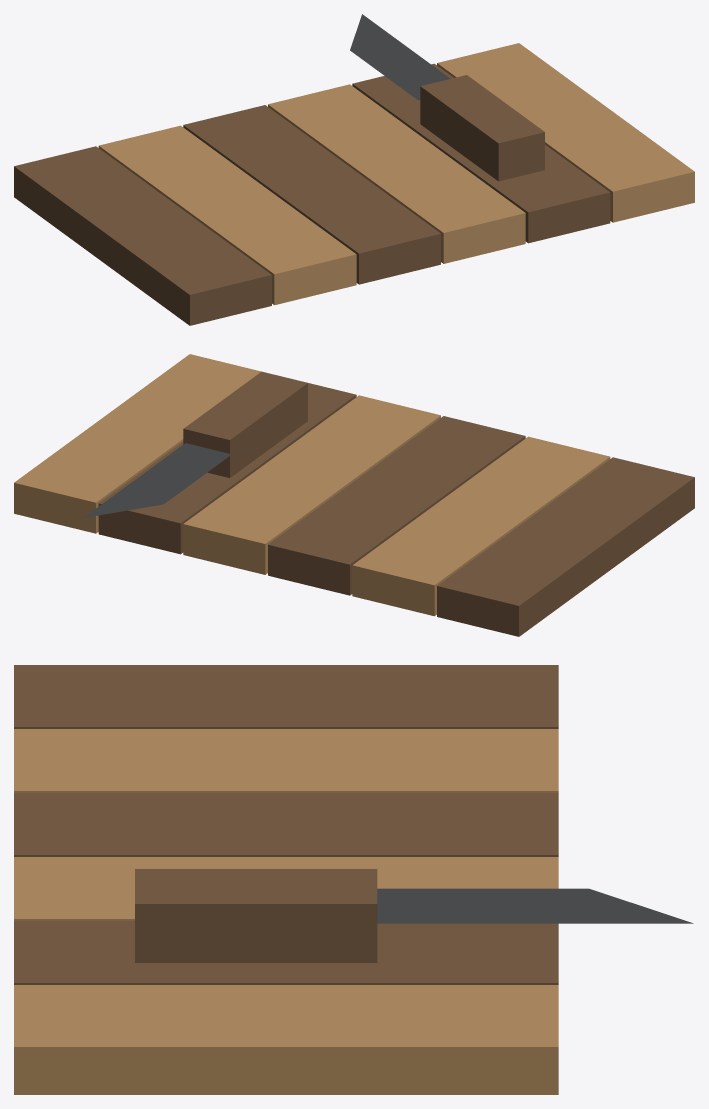
Rendered from prep_board.glb.
3 views of the same model, one above another, from view 1: azimuth 30°, elevation 25°; view 2: azimuth 150°, elevation 25°; view 3: azimuth 270°, elevation 25° (orthographic). The views are drawn at different scales.
Visible parts, largest first — view 1: Preparation • end grain board and field knife.001; view 2: Preparation • end grain board and field knife.001; view 3: Preparation • end grain board and field knife.001.
Boxes of the visible parts, x1,y1,x2,y2 form: Preparation • end grain board and field knife.001: (14, 14, 694, 325); Preparation • end grain board and field knife.001: (14, 354, 694, 636); Preparation • end grain board and field knife.001: (14, 665, 693, 1094).
Bounding box in the file's own units: 0.597 × 0.078 × 0.45.
